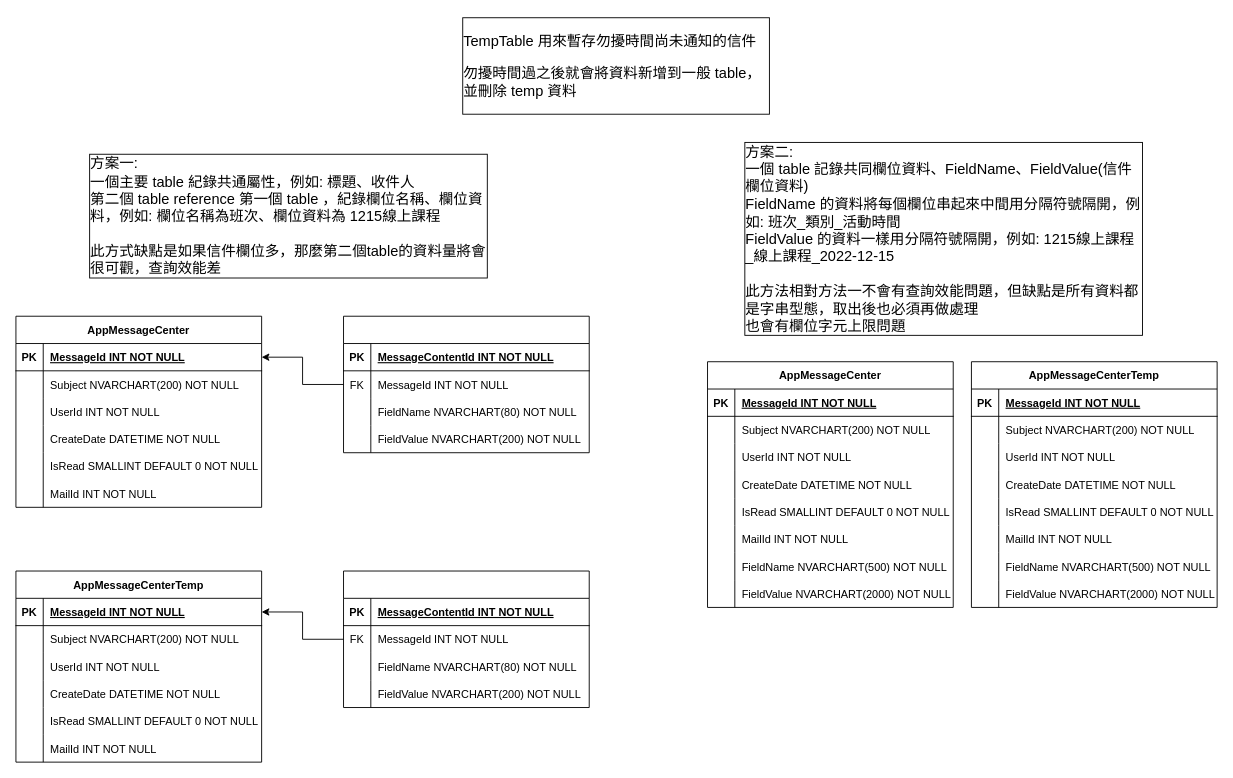
This 1233x778 diagram has some shape labels left out. The box of each missing label's shape, as (x1, y1, x2, y2) in pixels:
AppMessageContent: (343, 315, 589, 453)
AppMessageContentTemp: (343, 570, 589, 708)
